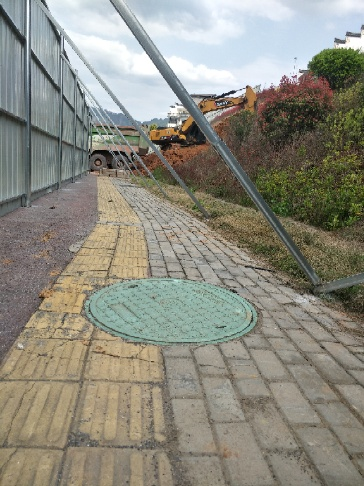good: (85, 278, 258, 345)
